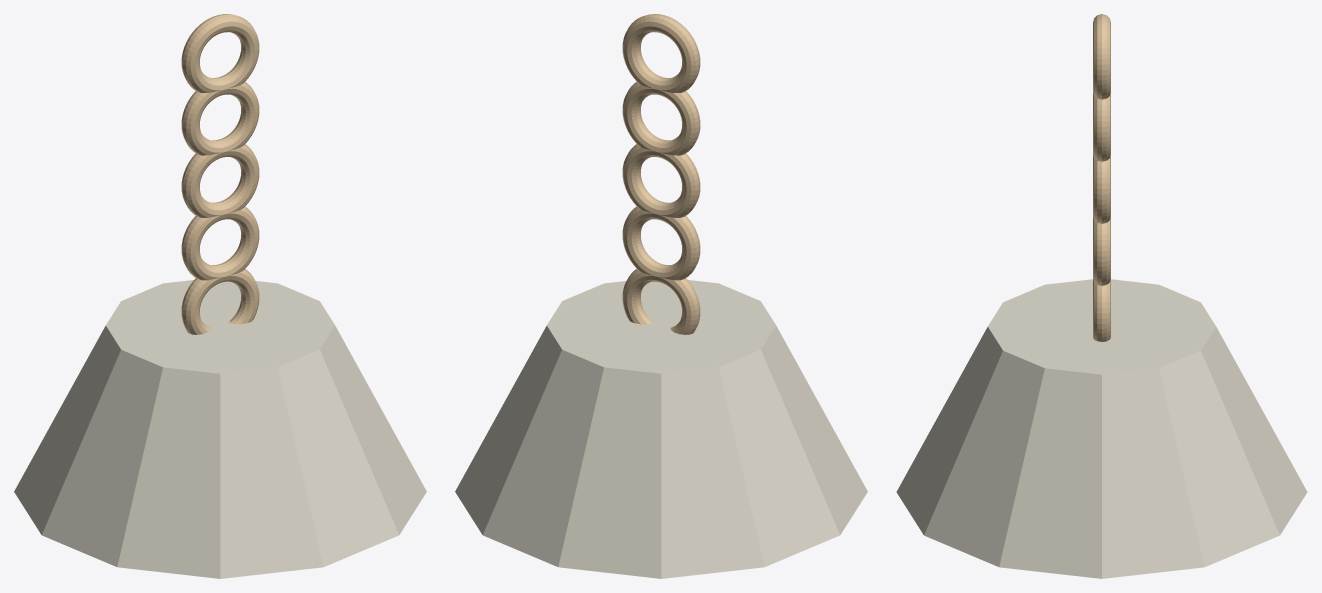
Rendered from 18-Casas_decor_lampara_techo.glb.
3 renders of one model, left to right at view 1: azimuth 30°, elevation 25°; view 2: azimuth 150°, elevation 25°; view 3: azimuth 270°, elevation 25°, orthographic.
Visible parts, largest first — view 1: SM_LampTecho_Campana, SM_LampTecho_Cadena.004, SM_LampTecho_Cadena.003, SM_LampTecho_Cadena.001, SM_LampTecho_Cadena.002, SM_LampTecho_Cadena; view 2: SM_LampTecho_Campana, SM_LampTecho_Cadena.004, SM_LampTecho_Cadena.003, SM_LampTecho_Cadena.001, SM_LampTecho_Cadena.002, SM_LampTecho_Cadena; view 3: SM_LampTecho_Campana, SM_LampTecho_Cadena.004, SM_LampTecho_Cadena.001, SM_LampTecho_Cadena.002, SM_LampTecho_Cadena.003, SM_LampTecho_Cadena.
Part boxes in pixels (bbox=[...]): SM_LampTecho_Campana: bbox=[14, 280, 426, 578]; SM_LampTecho_Cadena.004: bbox=[181, 14, 259, 92]; SM_LampTecho_Cadena.003: bbox=[181, 82, 259, 155]; SM_LampTecho_Cadena.001: bbox=[181, 206, 259, 280]; SM_LampTecho_Cadena.002: bbox=[181, 144, 259, 217]; SM_LampTecho_Cadena: bbox=[181, 269, 259, 334]; SM_LampTecho_Campana: bbox=[455, 280, 867, 578]; SM_LampTecho_Cadena.004: bbox=[622, 14, 700, 92]; SM_LampTecho_Cadena.003: bbox=[622, 82, 700, 155]; SM_LampTecho_Cadena.001: bbox=[622, 206, 700, 280]; SM_LampTecho_Cadena.002: bbox=[622, 144, 700, 217]; SM_LampTecho_Cadena: bbox=[622, 269, 700, 334]; SM_LampTecho_Campana: bbox=[896, 279, 1307, 578]; SM_LampTecho_Cadena.004: bbox=[1093, 14, 1110, 99]; SM_LampTecho_Cadena.001: bbox=[1093, 217, 1110, 285]; SM_LampTecho_Cadena.002: bbox=[1093, 155, 1110, 223]; SM_LampTecho_Cadena.003: bbox=[1093, 93, 1110, 161]; SM_LampTecho_Cadena: bbox=[1093, 279, 1110, 341].
Bounding box in the file's own units: 0.36 × 0.468 × 0.36.
